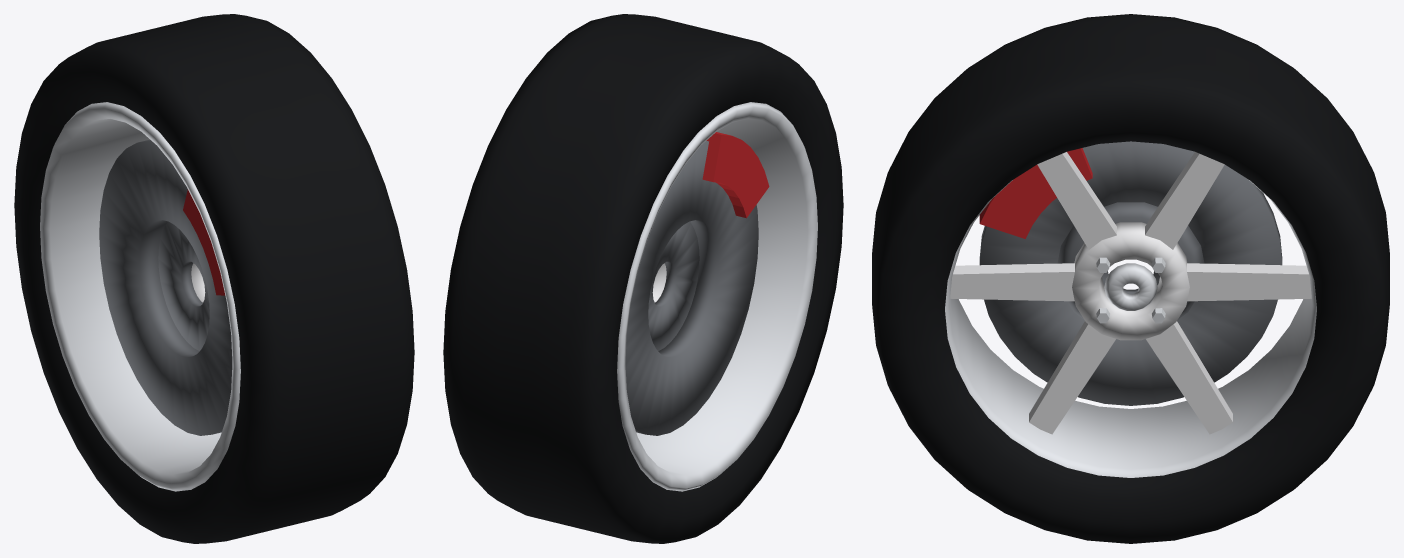
The model's file is w06_deep6_19.glb.
3 views of the same model, side by side, from view 1: azimuth 30°, elevation 25°; view 2: azimuth 150°, elevation 25°; view 3: azimuth 270°, elevation 25° (orthographic).
Visible parts, largest first — view 1: wheel, brake; view 2: wheel, brake; view 3: wheel, brake.
Boxes of the visible parts, x1=… form: wheel: x1=14, y1=14, x2=414, y2=543; brake: x1=99, y1=139, x2=232, y2=435; wheel: x1=443, y1=14, x2=843, y2=543; brake: x1=625, y1=132, x2=769, y2=435; wheel: x1=872, y1=14, x2=1389, y2=543; brake: x1=979, y1=141, x2=1282, y2=405.
Size of what is drawn, in the model's own units: 0.235 by 0.66 by 0.66.
